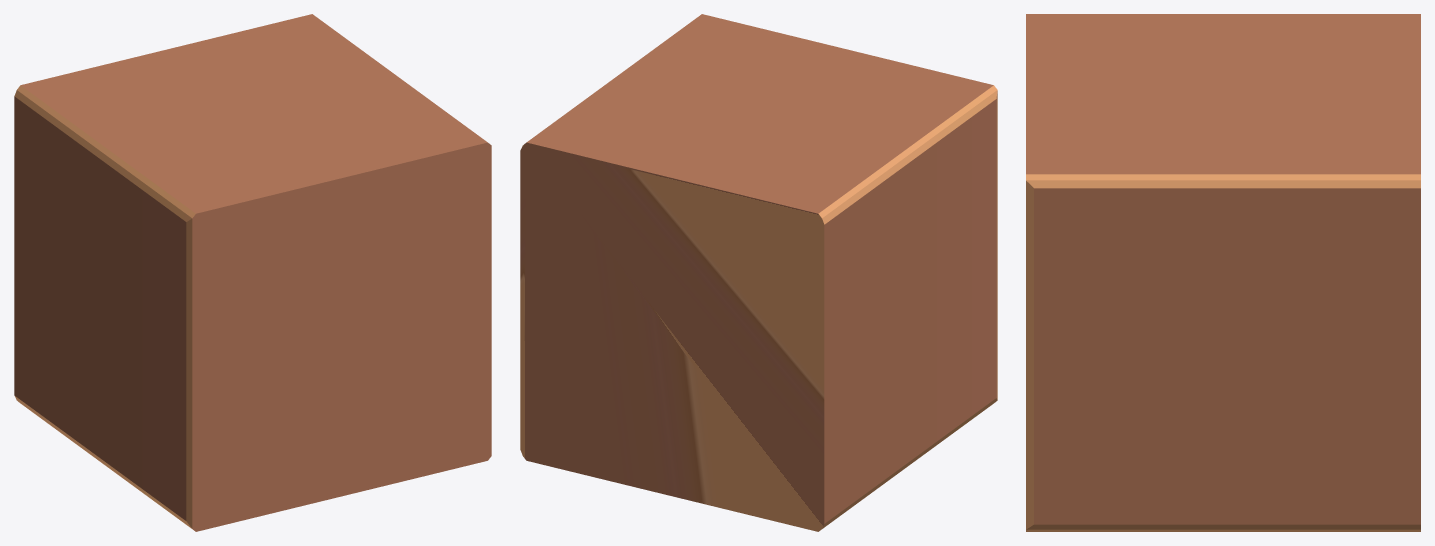
The model's file is half-brick.fbx.
3 views of the same model, side by side, from view 1: azimuth 30°, elevation 25°; view 2: azimuth 150°, elevation 25°; view 3: azimuth 270°, elevation 25° (orthographic). The views are drawn at different scales.
Visible parts, largest first — view 1: HalfCube; view 2: HalfCube; view 3: HalfCube.
Boxes of the visible parts, bbox=[...] form: HalfCube: bbox=[14, 14, 491, 531]; HalfCube: bbox=[520, 14, 997, 531]; HalfCube: bbox=[1026, 14, 1420, 531].
Bounding box in the file's own units: 100 × 100 × 100.
